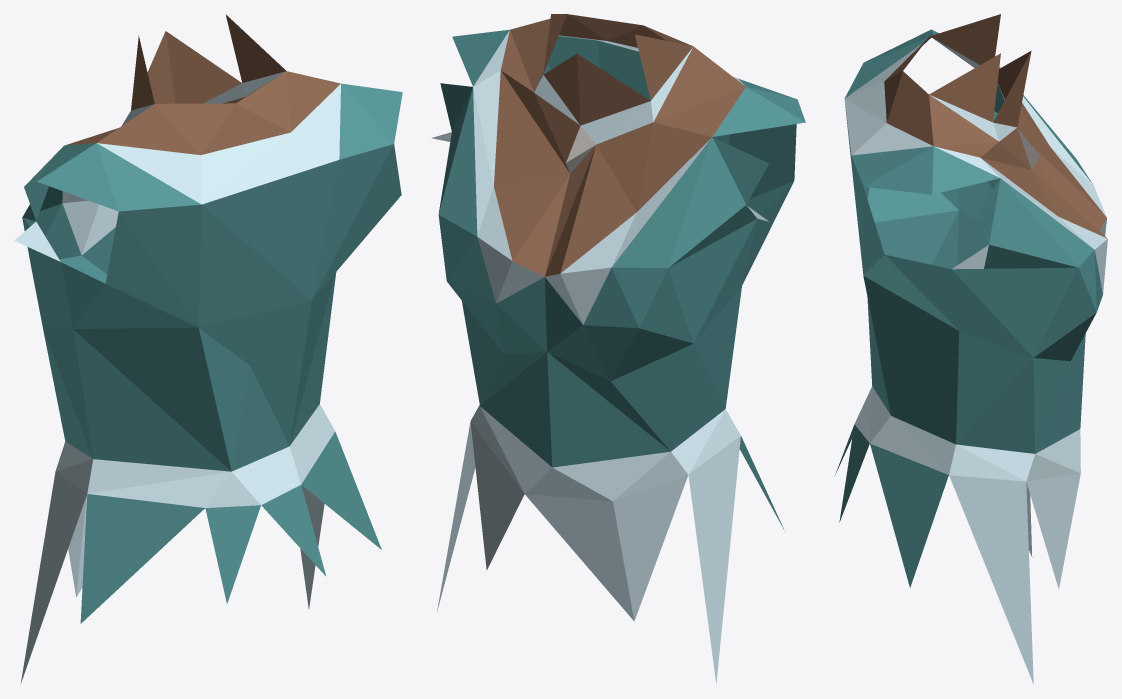
Rendered from Torso.obj.
3 views of the same model, side by side, from view 1: azimuth 30°, elevation 25°; view 2: azimuth 150°, elevation 25°; view 3: azimuth 270°, elevation 25° (orthographic). The views are drawn at different scales.
Size of the model in its own units: 0.4558 by 0.7576 by 0.3192.
Materials: 1 (1 with a texture image).
